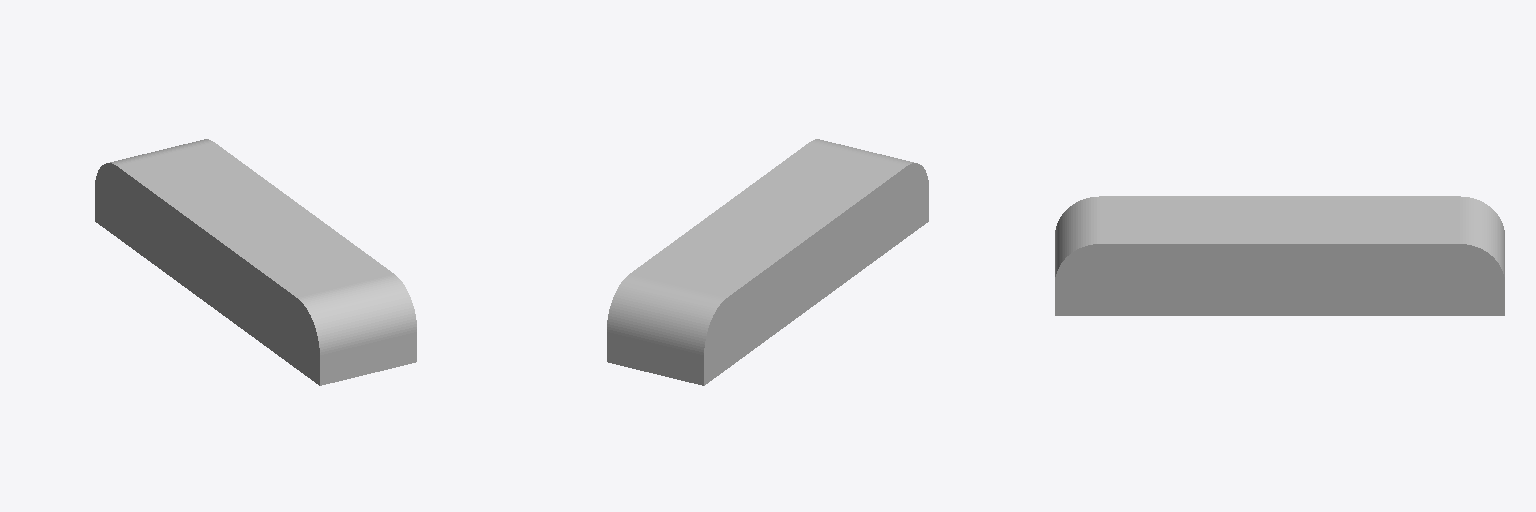
File: NodeHeader.obj
3 renders of one model, left to right at view 1: azimuth 30°, elevation 25°; view 2: azimuth 150°, elevation 25°; view 3: azimuth 270°, elevation 25°, orthographic.
Parts seen in each view (by area): view 1: Plane; view 2: Plane; view 3: Plane.
Boxes of the visible parts, box(x1,y1,x2,y2) form: Plane: box(95, 139, 416, 385); Plane: box(607, 139, 928, 385); Plane: box(1055, 196, 1504, 315).
Bounding box in the file's own units: 0.5 × 0.35 × 2.